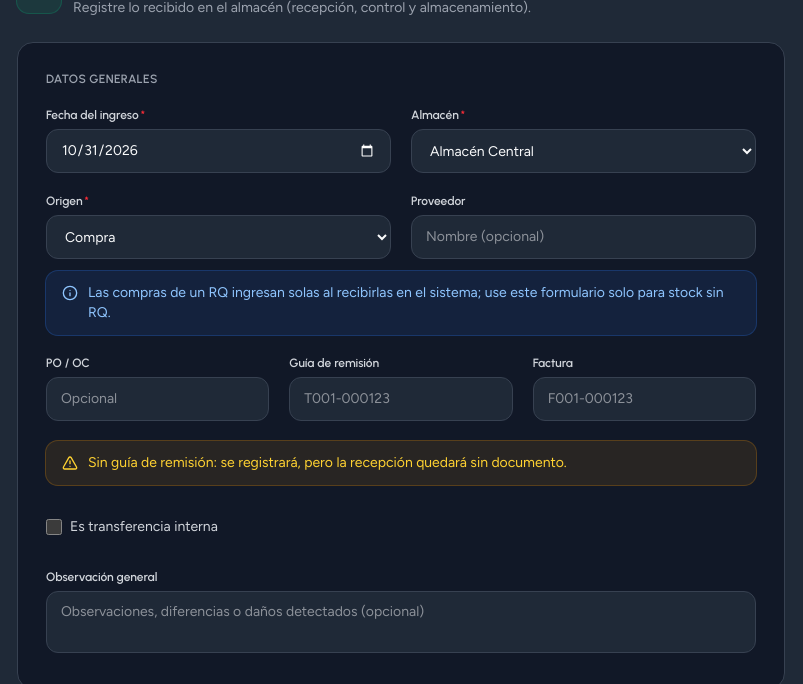
Test case: Ingreso — errores de validación › con la fecha vacía el primero es la fecha
Clear the date field labelled "Fecha del ingreso*" at coordinates (218, 151), box [46,129,391,173]
(page scrolled)
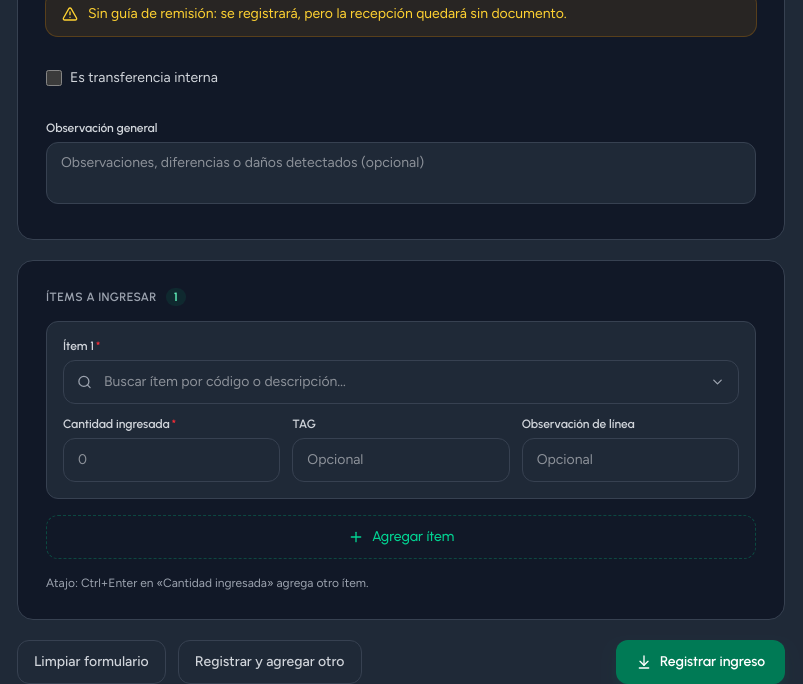
Click the button "Registrar ingreso" at coordinates (701, 662), box [616,640,785,683]
(page scrolled)
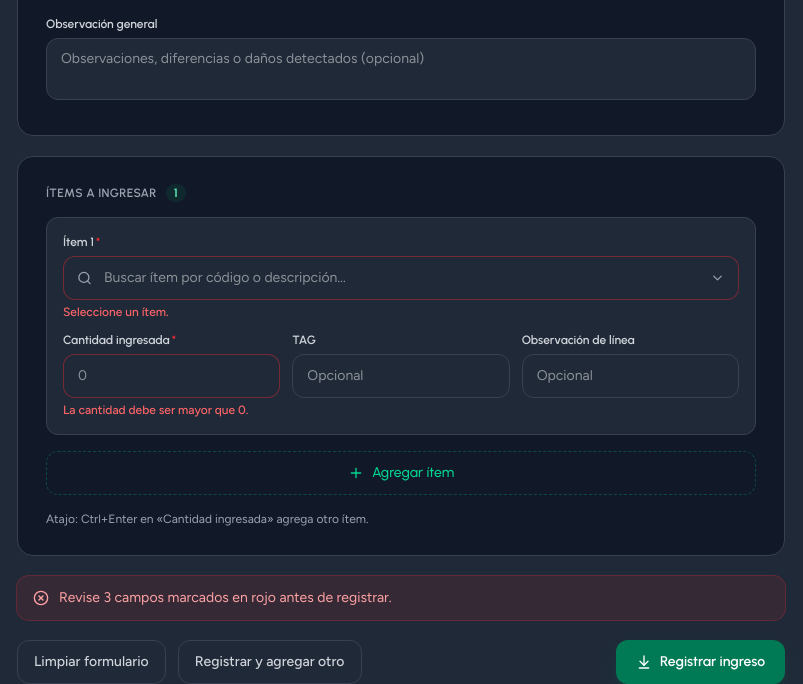
Check: the message shows "Revise 3 campos marcados", box [17,576,785,620]
